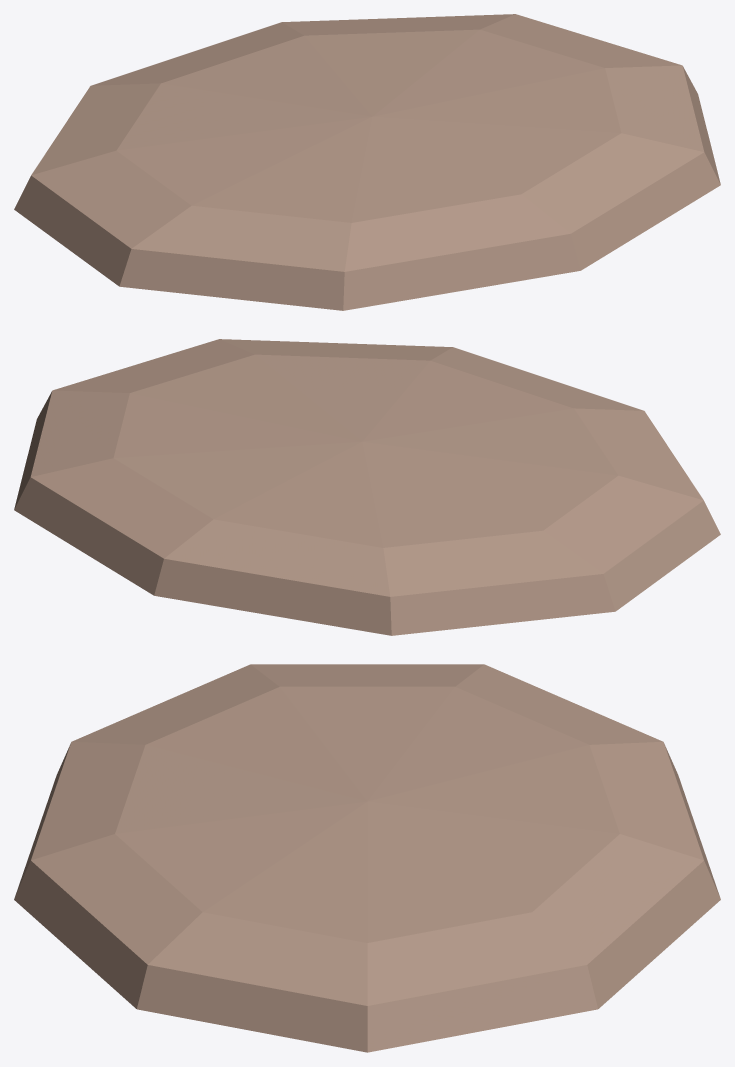
File: clay_dug.glb
The picture shows the model from 3 angles, top to bottom: view 1: azimuth 30°, elevation 25°; view 2: azimuth 150°, elevation 25°; view 3: azimuth 270°, elevation 25°; orthographic projection. The views are drawn at different scales.
Bounding box in the file's own units: 0.8147 × 0.07 × 0.6783.
